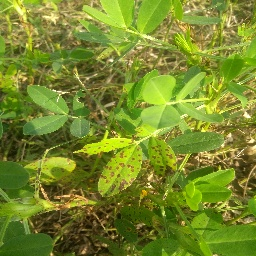GroundNut_Leaf: (98, 145, 142, 194), (184, 168, 236, 208), (1, 221, 54, 253), (208, 223, 255, 256), (164, 220, 204, 256), (26, 83, 69, 114), (136, 1, 172, 36), (168, 132, 226, 152), (143, 73, 176, 108), (23, 115, 70, 139), (32, 158, 75, 183), (110, 106, 139, 140), (102, 1, 135, 30), (178, 68, 205, 102), (1, 161, 29, 192), (179, 106, 222, 123), (221, 54, 244, 84), (115, 208, 158, 223), (67, 47, 95, 61), (71, 119, 90, 139)
